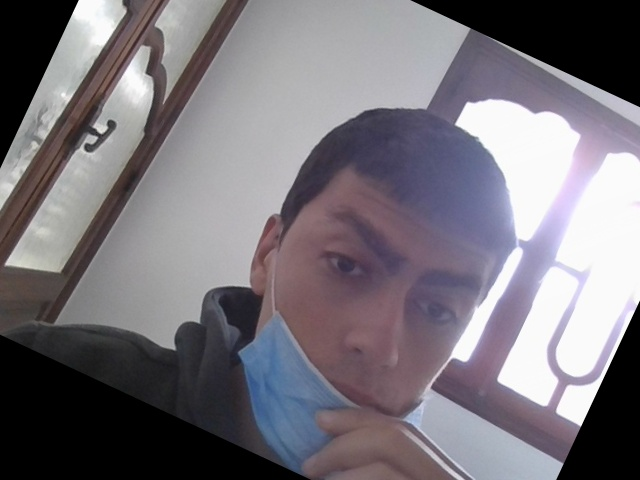mask_weared_incorrect: (247, 156, 483, 476)
